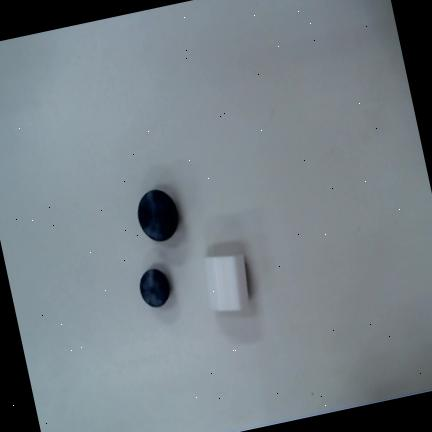Esfera: (137, 189, 178, 241), (139, 268, 170, 307)
Prisma_hexagonal: (204, 254, 250, 311)
